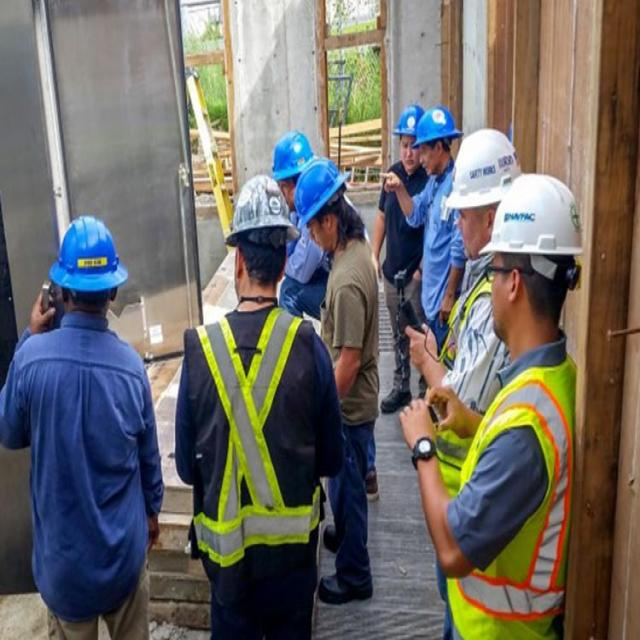Reflective-Jacket: (443, 352, 581, 639), (187, 307, 321, 568)
Safety-Helmet: (482, 166, 587, 268), (47, 208, 130, 296), (447, 121, 521, 212), (221, 166, 293, 247), (291, 152, 349, 222), (267, 124, 318, 181), (412, 101, 462, 149)
